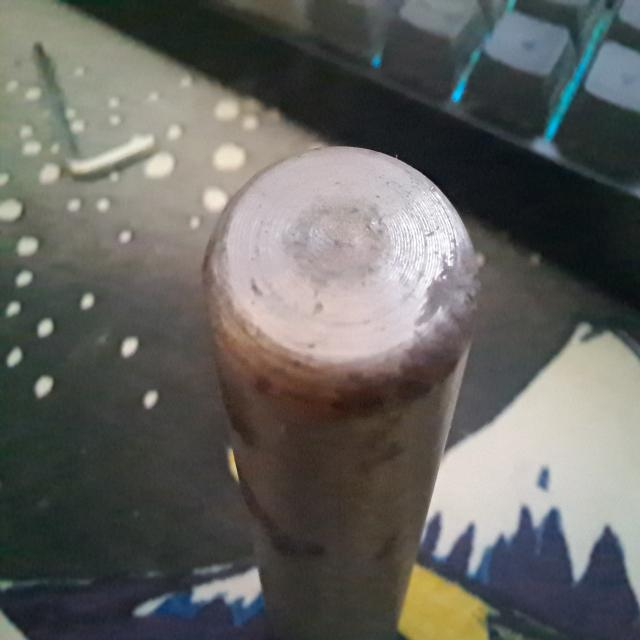planson: (203, 145, 479, 640)
